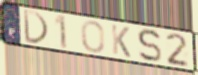1: (54, 13, 68, 50)
2: (165, 33, 191, 69)
D: (22, 9, 50, 47)
K: (110, 23, 132, 59)
O: (80, 20, 106, 54)
S: (136, 28, 163, 64)
